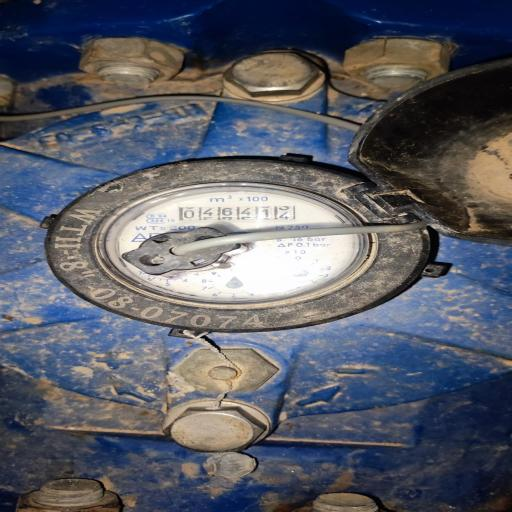0: (181, 209, 199, 219)
1: (259, 208, 272, 218)
4: (275, 210, 295, 220), (202, 207, 218, 217), (239, 207, 254, 216)
6: (220, 207, 236, 216)
medida: (178, 205, 295, 220)
